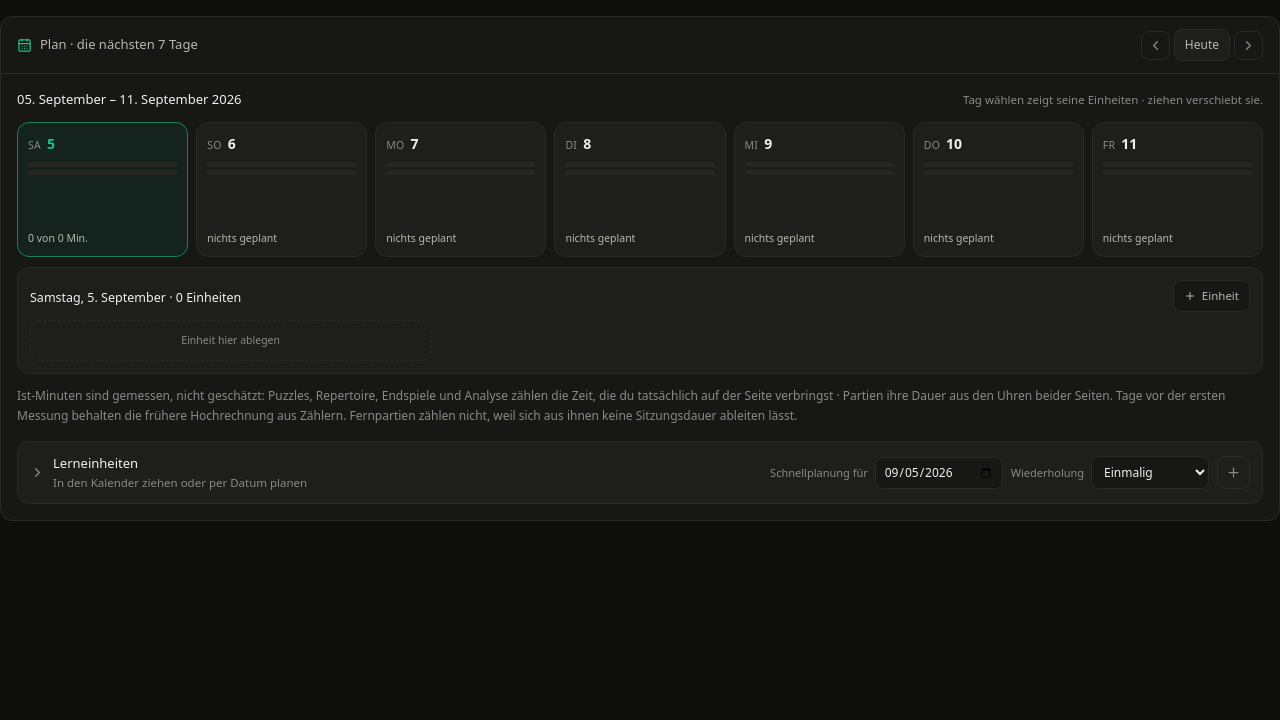
it: Plantafel › lässt die Standardeinheiten stehen und nur eigene löschen
Click the button "Lerneinheiten In den Kalender ziehen oder per Datum planen" at (169, 473), box [30, 454, 307, 491]
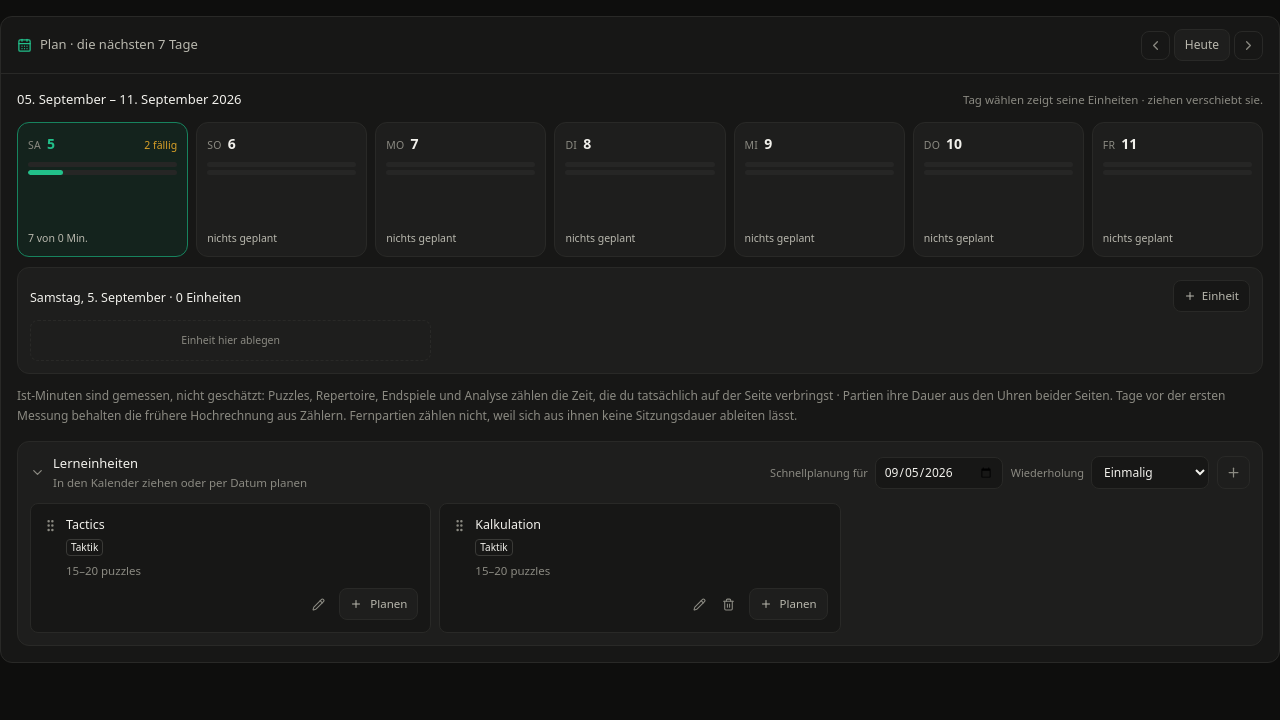
Check: the button named "Löschen" is shown, box [716, 592, 741, 617]
